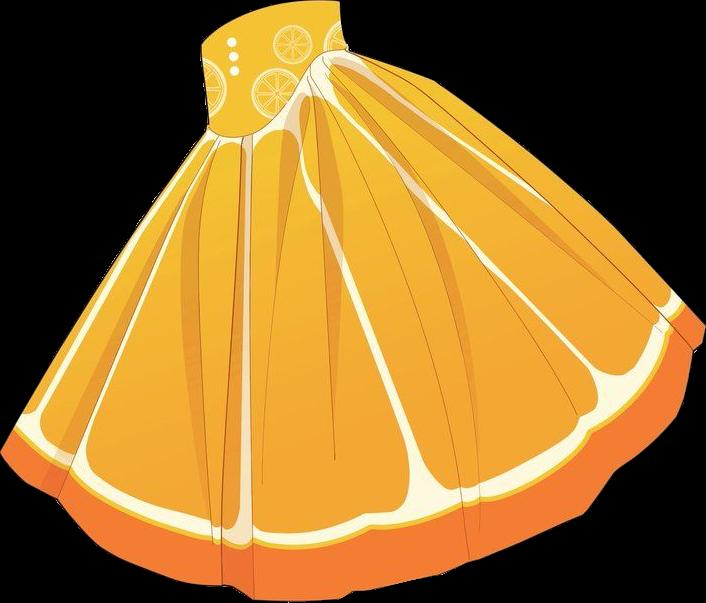Hemline: (0, 324, 705, 602)
Waistline: (204, 44, 349, 143), (198, 0, 339, 46)
